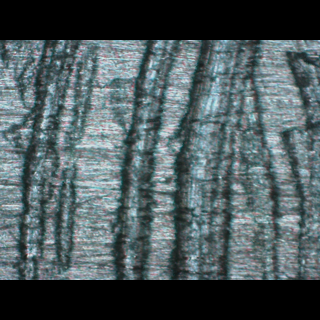d: (0, 40, 101, 280), (163, 40, 263, 280), (106, 40, 180, 280)
